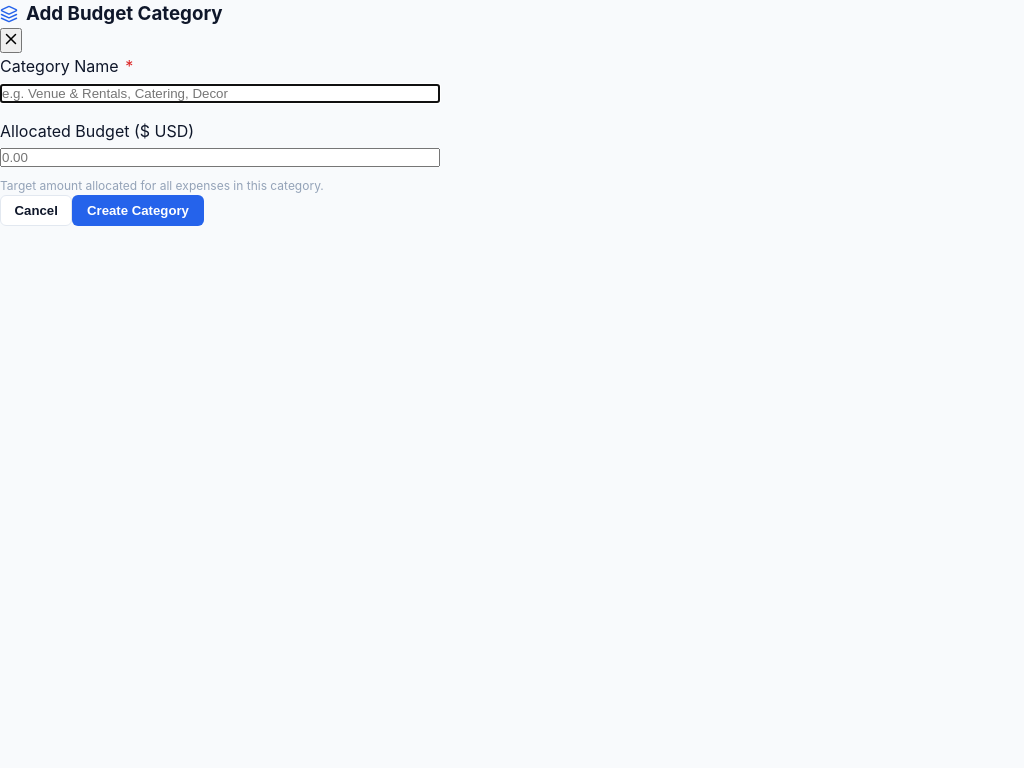
Test case: BudgetCategoryModal Component (Sub-Task 3.4.3a) › validates required name field before submitting
Click the button "Create Category": (138, 211) [72,195,204,226]
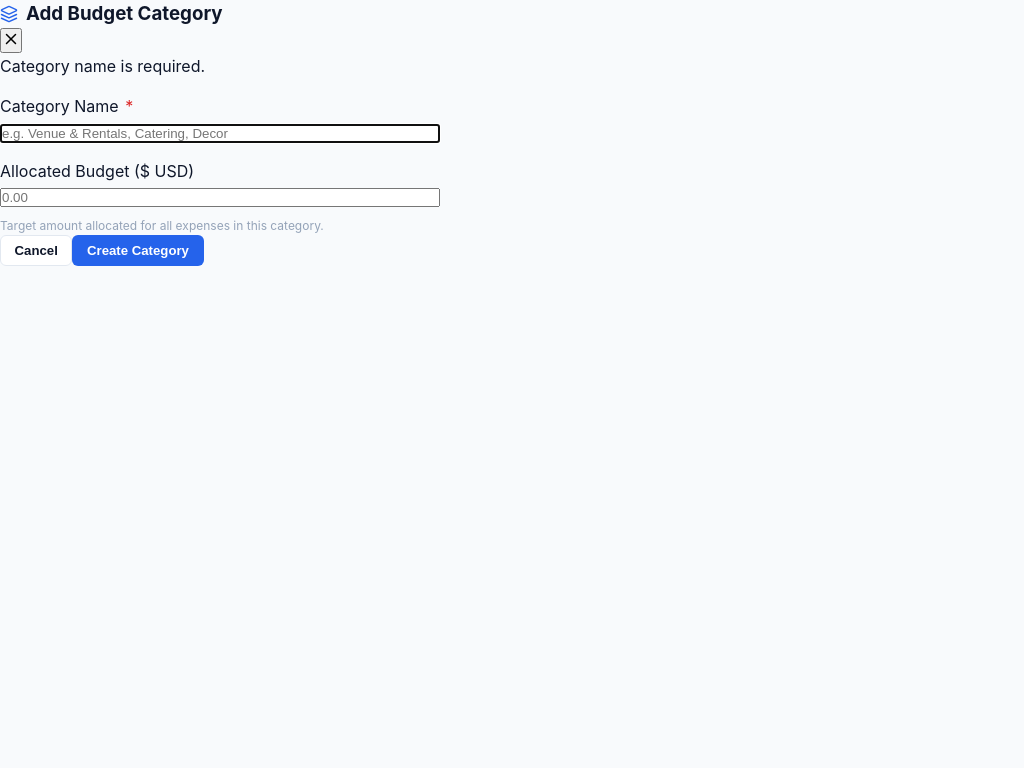
Now the text "Category name is required." is shown, box [0,56,205,76]
